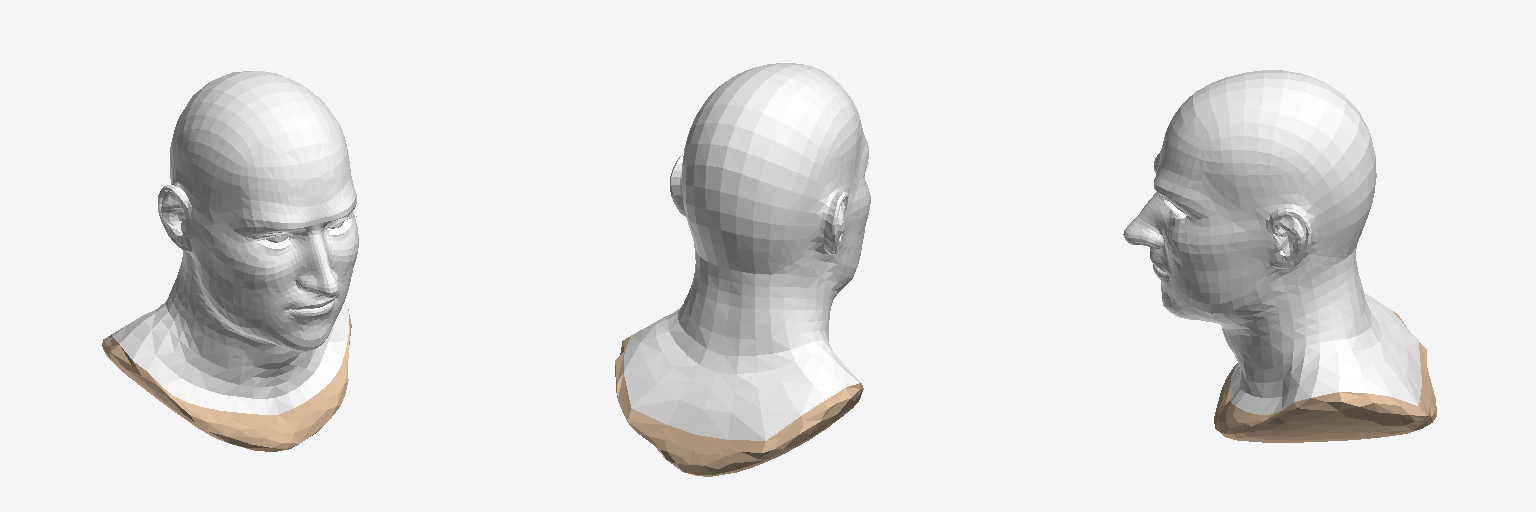
The model's file is hombre2.obj.
The picture shows the model from 3 angles: view 1: azimuth 30°, elevation 25°; view 2: azimuth 150°, elevation 25°; view 3: azimuth 270°, elevation 25°; orthographic projection.
Visible parts, largest first — view 1: Body; view 2: Body; view 3: Body.
Boxes of the visible parts, x1=… form: Body: x1=111, y1=71, x2=358, y2=414; Body: x1=624, y1=63, x2=870, y2=440; Body: x1=1123, y1=70, x2=1421, y2=414.
Bounding box in the file's own units: 25.62 × 37.96 × 30.37.